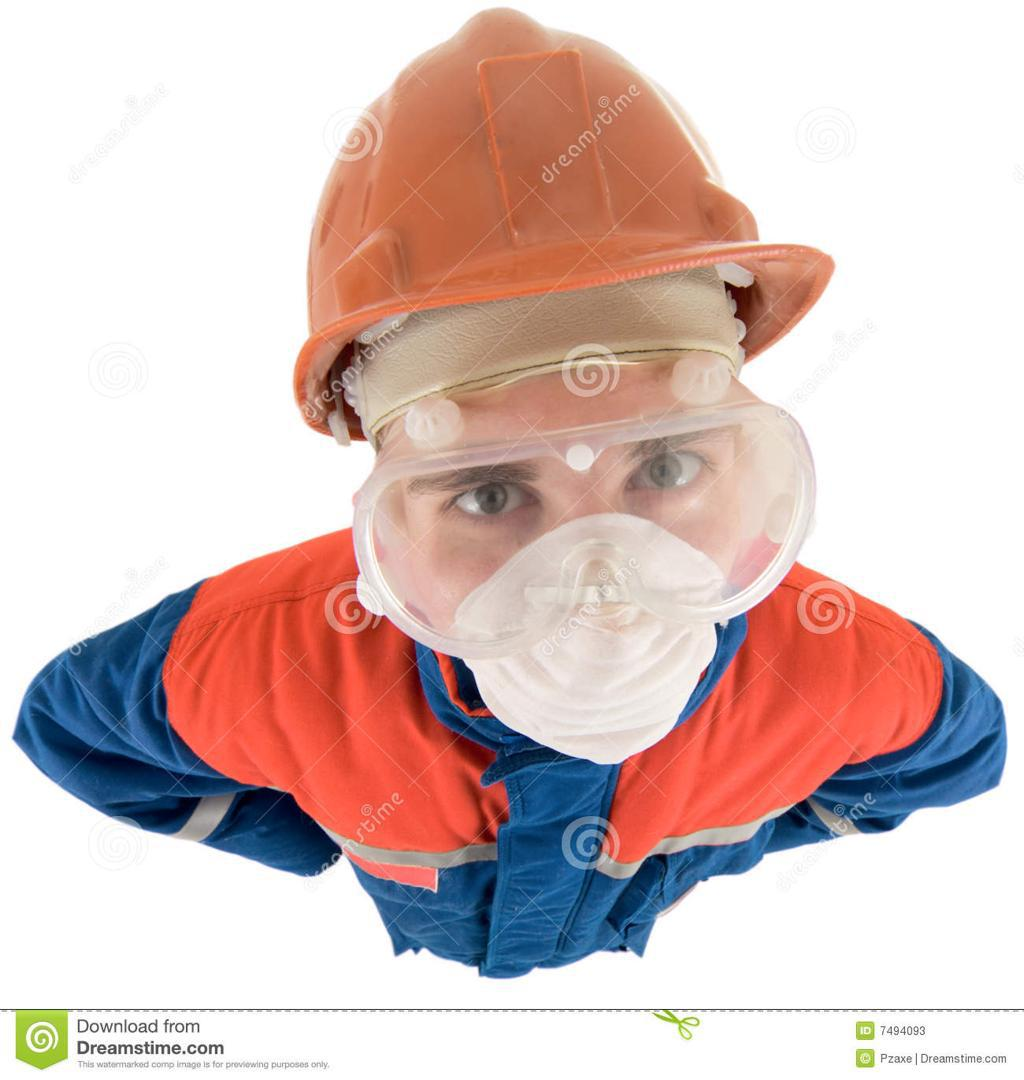face: (406, 259, 729, 685)
